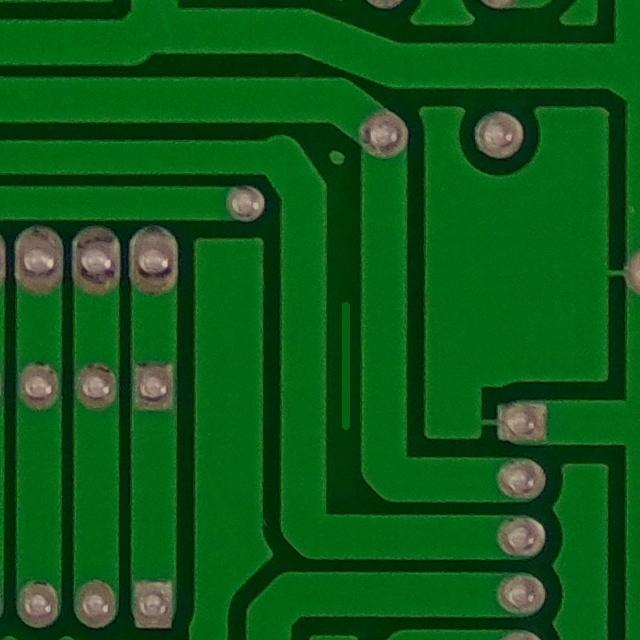spurious_copper: (324, 284, 371, 448)
